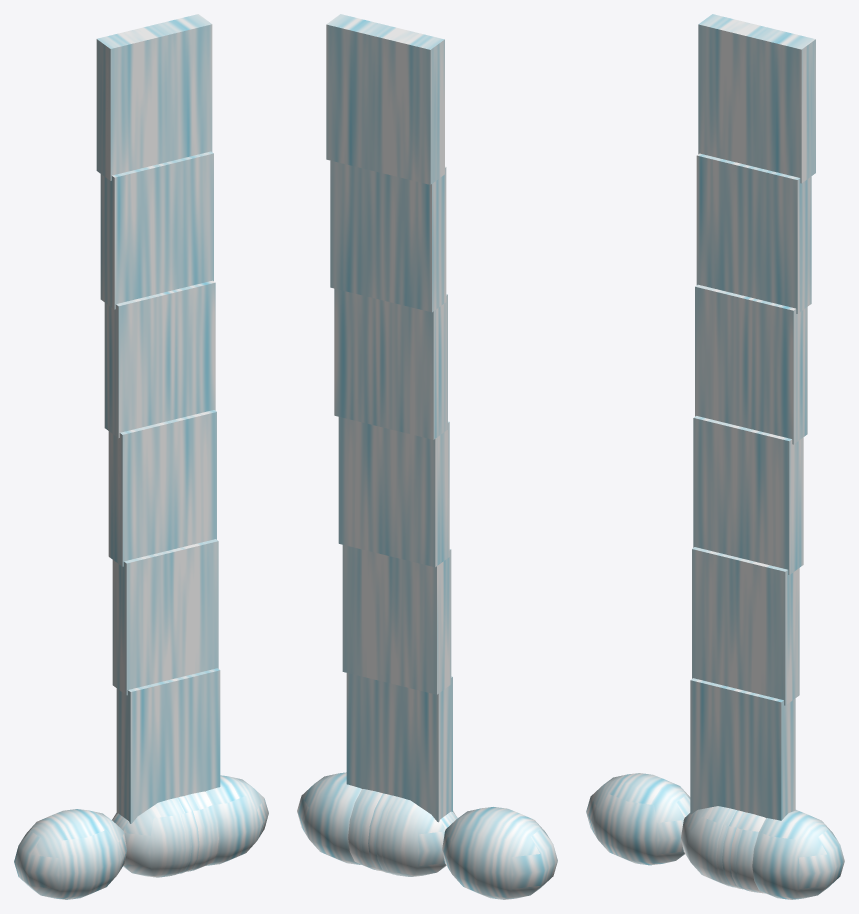
The model's file is waterfall-stream.glb.
3 views of the same model, side by side, from view 1: azimuth 30°, elevation 25°; view 2: azimuth 150°, elevation 25°; view 3: azimuth 330°, elevation 25° (orthographic). The views are drawn at different scales.
Visible parts, largest first — view 1: waterfall-stream; view 2: waterfall-stream; view 3: waterfall-stream.
Boxes of the visible parts, x1=… form: waterfall-stream: x1=14, y1=14, x2=268, y2=899; waterfall-stream: x1=297, y1=14, x2=557, y2=899; waterfall-stream: x1=586, y1=14, x2=844, y2=899.
Bounding box in the file's own units: 0.9945 × 3.27 × 0.32.
Materials: 1 (1 with a texture image).
